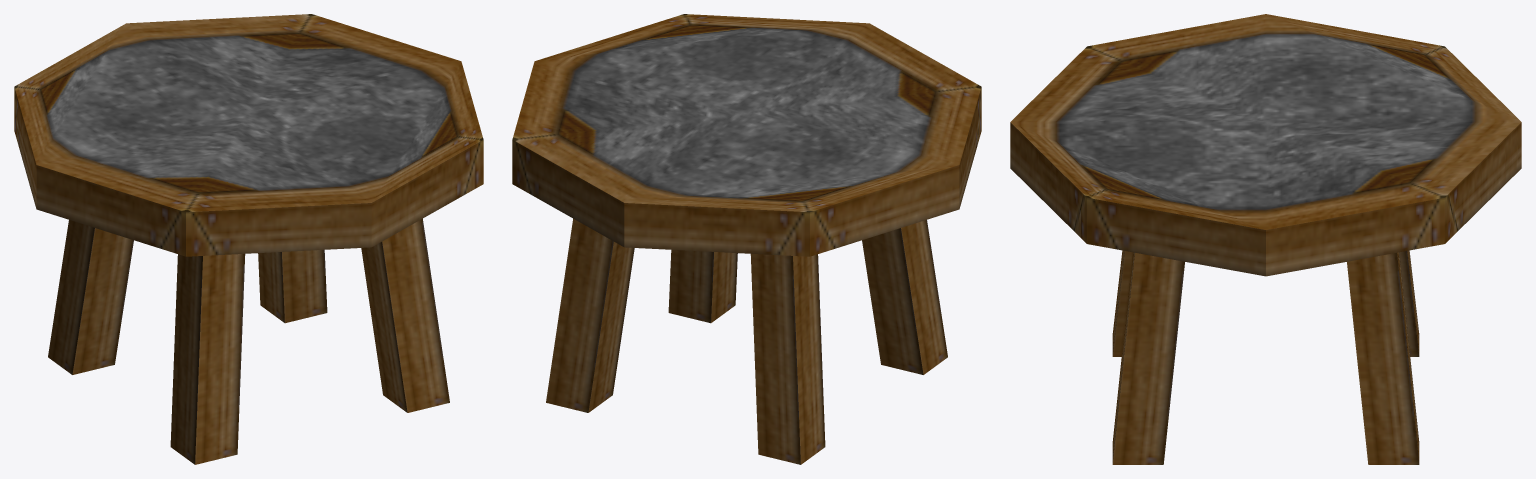
Rendered from chair.fbx.
The picture shows the model from 3 angles, left to right: view 1: azimuth 30°, elevation 25°; view 2: azimuth 150°, elevation 25°; view 3: azimuth 270°, elevation 25°; orthographic projection. The views are drawn at different scales.
Visible parts, largest first — view 1: chair; view 2: chair; view 3: chair.
Part boxes in pixels (x1,y1,x2,y2): chair: (14, 14, 483, 464); chair: (512, 14, 981, 464); chair: (1010, 14, 1521, 464).
Size of the model in its own units: 200 by 120 by 200.
Materials: 1 (1 with a texture image).
